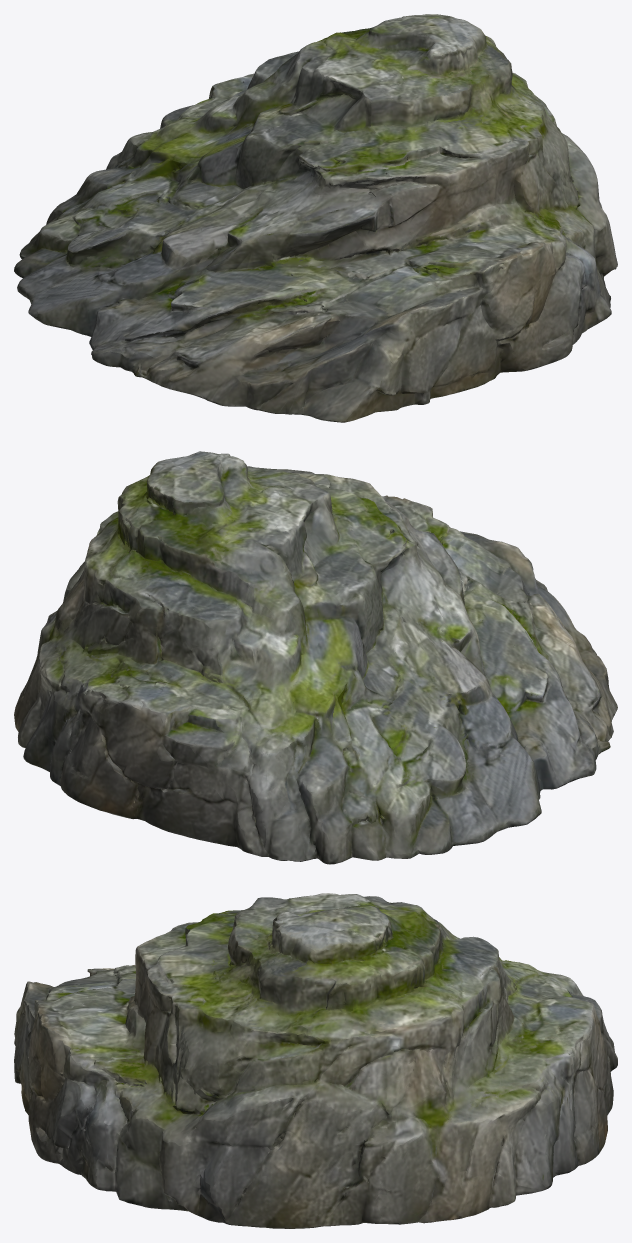
File: rocky-hill-v001.glb
3 views of the same model, one above another, from view 1: azimuth 30°, elevation 25°; view 2: azimuth 150°, elevation 25°; view 3: azimuth 270°, elevation 25° (orthographic). The views are drawn at different scales.
Parts seen in each view (by area): view 1: geometry_0; view 2: geometry_0; view 3: geometry_0.
Part boxes in pixels (<box>): geometry_0: <box>14,14,617,422</box>; geometry_0: <box>14,451,617,864</box>; geometry_0: <box>14,893,617,1228</box>.
Bounding box in the file's own units: 8 × 3.57 × 8.
Materials: 1 (1 with a texture image).
